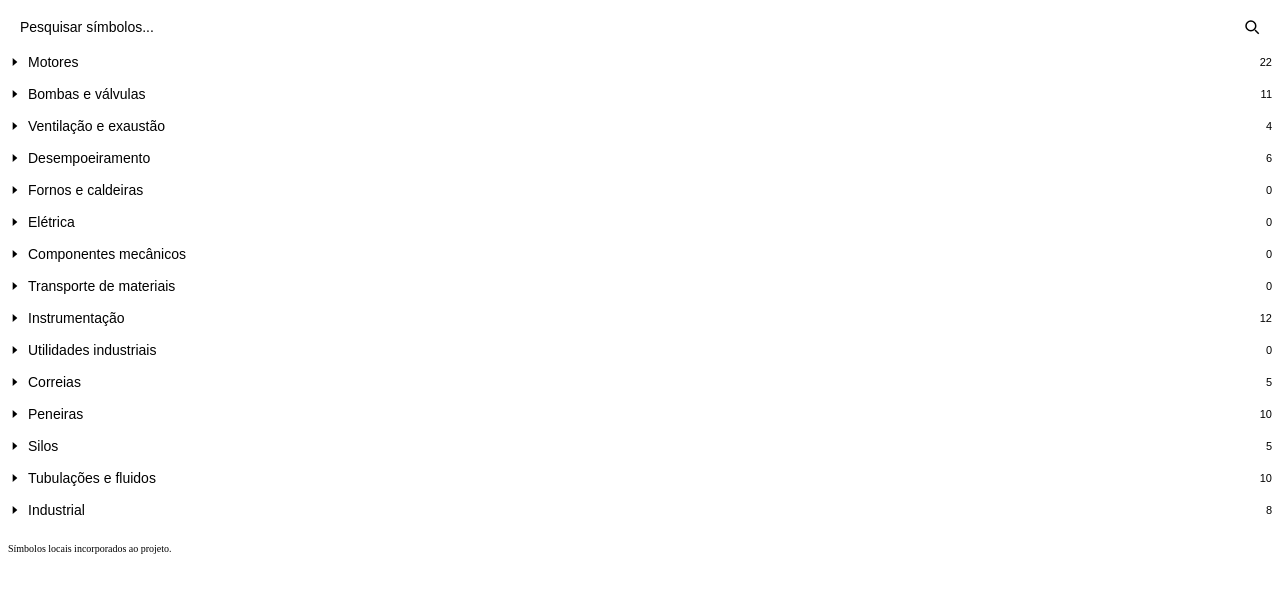
LibraryPanel › exibe pesquisa, categorias recolhíveis e os SVGs locais disponíveis
expect the field with placeholder "Pesquisar símbolos..." is shown: met, box [8,8,1232,46]
expect the text "Motores" is shown: met, box [28,54,79,70]
Click the button "Instrumentação 12" at (76, 318), box [8,302,1272,334]
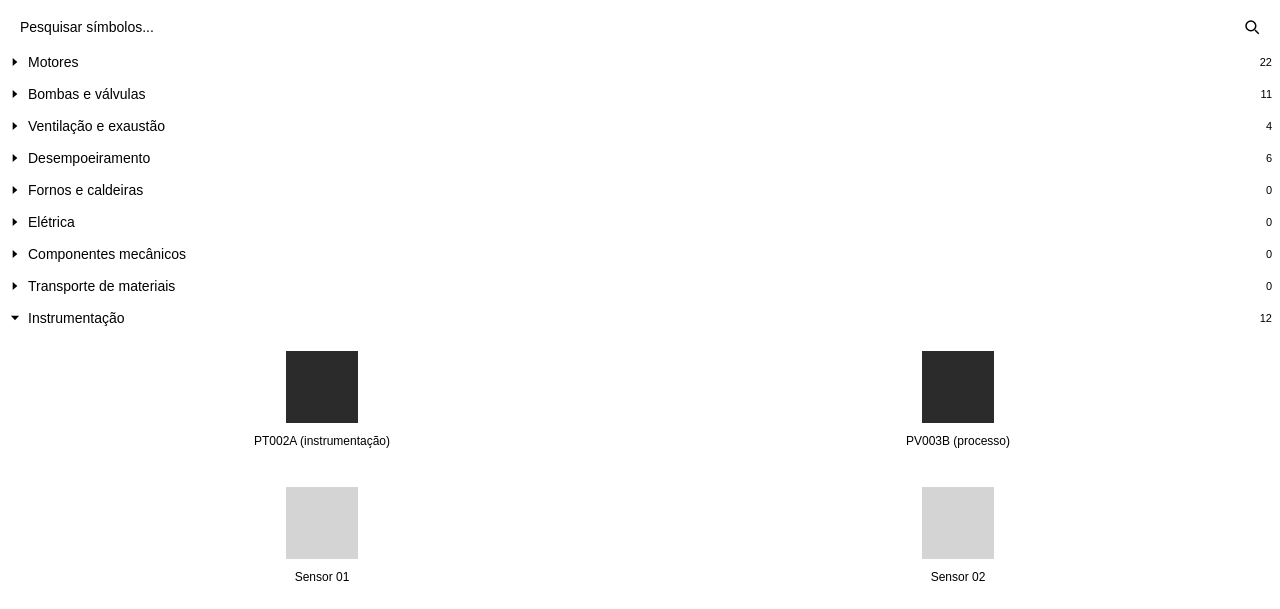
expect the button with test id "library-symbol-PT002A_Option1" is shown: met, box [8,336,636,464]
